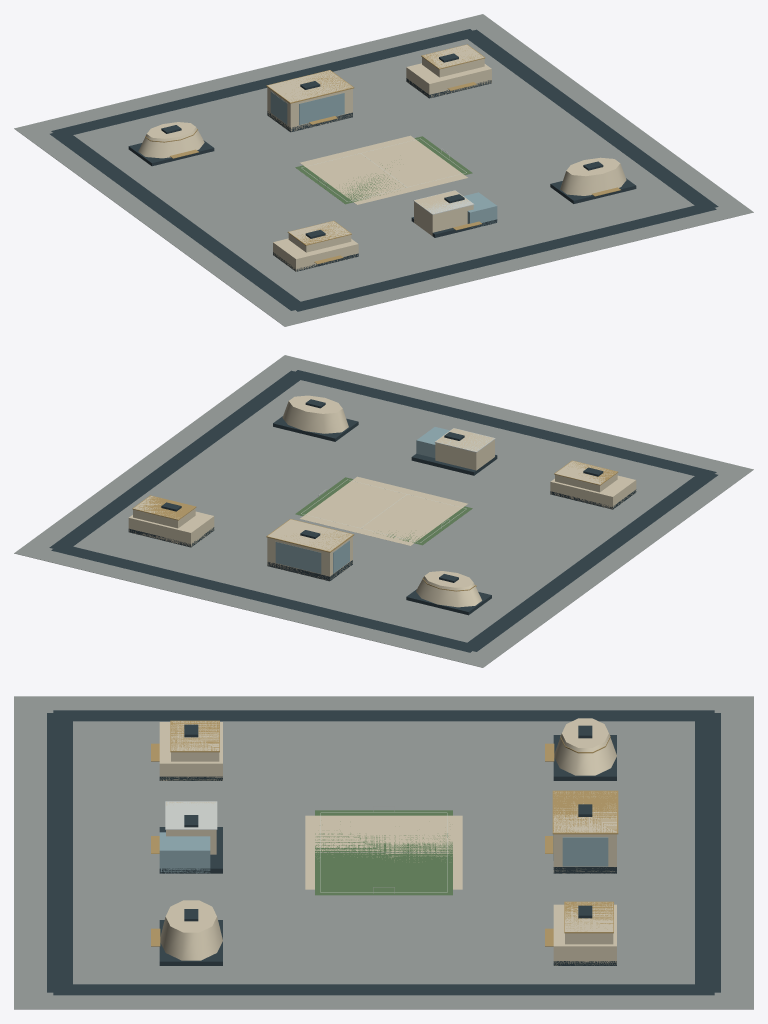
Rendered from GC-TILE-18-18.glb.
The picture shows the model from 3 angles, top to bottom: view 1: azimuth 30°, elevation 25°; view 2: azimuth 150°, elevation 25°; view 3: azimuth 270°, elevation 25°; orthographic projection. The views are drawn at different scales.
Visible parts, largest first — view 1: GC-TILE-18-18-paving, GC-TILE-18-18-ivory, GC-TILE-18-18-dark, GC-TILE-18-18-gold, GC-TILE-18-18-glass, GC-TILE-18-18-field, GC-TILE-18-18-white; view 2: GC-TILE-18-18-paving, GC-TILE-18-18-dark, GC-TILE-18-18-ivory, GC-TILE-18-18-glass, GC-TILE-18-18-gold, GC-TILE-18-18-field, GC-TILE-18-18-white; view 3: GC-TILE-18-18-paving, GC-TILE-18-18-dark, GC-TILE-18-18-ivory, GC-TILE-18-18-field, GC-TILE-18-18-gold, GC-TILE-18-18-glass, GC-TILE-18-18-white.
Part boxes in pixels (x1,y1,x2,y2): GC-TILE-18-18-paving: [14, 14, 753, 326]; GC-TILE-18-18-ivory: [138, 44, 626, 271]; GC-TILE-18-18-dark: [50, 29, 718, 311]; GC-TILE-18-18-gold: [145, 44, 620, 264]; GC-TILE-18-18-glass: [270, 92, 497, 228]; GC-TILE-18-18-field: [295, 136, 472, 204]; GC-TILE-18-18-white: [301, 138, 474, 214]; GC-TILE-18-18-paving: [14, 355, 753, 667]; GC-TILE-18-18-dark: [49, 370, 717, 652]; GC-TILE-18-18-ivory: [128, 395, 636, 607]; GC-TILE-18-18-glass: [275, 427, 449, 573]; GC-TILE-18-18-gold: [132, 460, 618, 591]; GC-TILE-18-18-field: [295, 477, 472, 545]; GC-TILE-18-18-white: [301, 428, 495, 542]; GC-TILE-18-18-paving: [14, 696, 753, 1009]; GC-TILE-18-18-dark: [47, 710, 720, 995]; GC-TILE-18-18-ivory: [159, 718, 616, 965]; GC-TILE-18-18-field: [315, 810, 452, 895]; GC-TILE-18-18-gold: [151, 720, 618, 946]; GC-TILE-18-18-glass: [159, 832, 608, 873]; GC-TILE-18-18-white: [165, 801, 447, 893].
Size of the model in its own units: 338 by 22.09 by 338.
